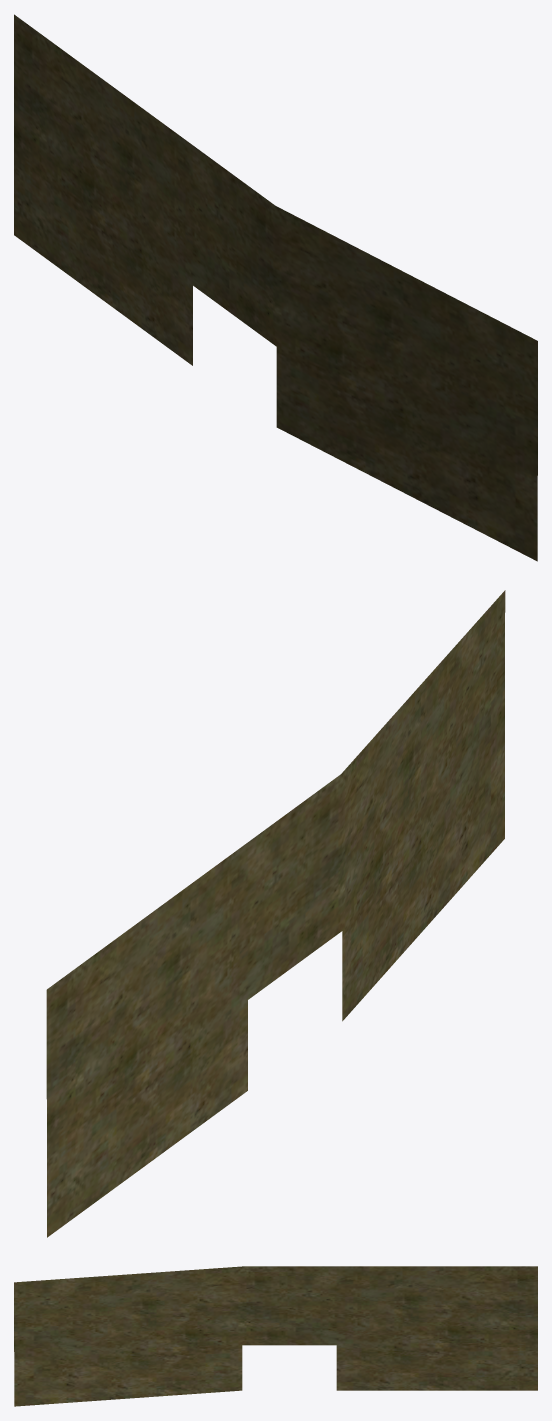
The model's file is CH09_SMAUG_PLAYSURFACE_LAIR126.fbx.
3 renders of one model, top to bottom at view 1: azimuth 30°, elevation 25°; view 2: azimuth 150°, elevation 25°; view 3: azimuth 270°, elevation 25°, orthographic. The views are drawn at different scales.
Parts seen in each view (by area): view 1: CH09_SMAUG_PLAYSURFACE_LAIR126; view 2: CH09_SMAUG_PLAYSURFACE_LAIR126; view 3: CH09_SMAUG_PLAYSURFACE_LAIR126.
Part boxes in pixels (x1,y1,x2,y2): CH09_SMAUG_PLAYSURFACE_LAIR126: (14,14,537,561); CH09_SMAUG_PLAYSURFACE_LAIR126: (46,590,505,1237); CH09_SMAUG_PLAYSURFACE_LAIR126: (14,1266,537,1406).
Size of the model in its own units: 8917 by 32311 by 123509.
Materials: 1 (1 with a texture image).
